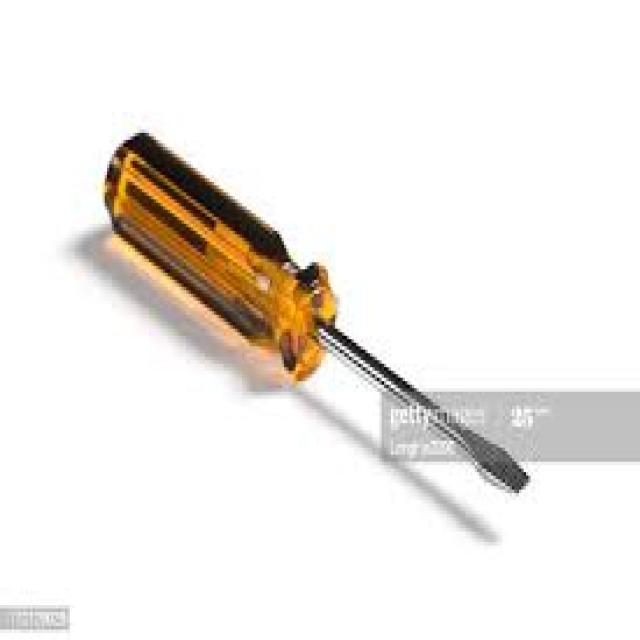screw driver: (70, 104, 550, 549)
